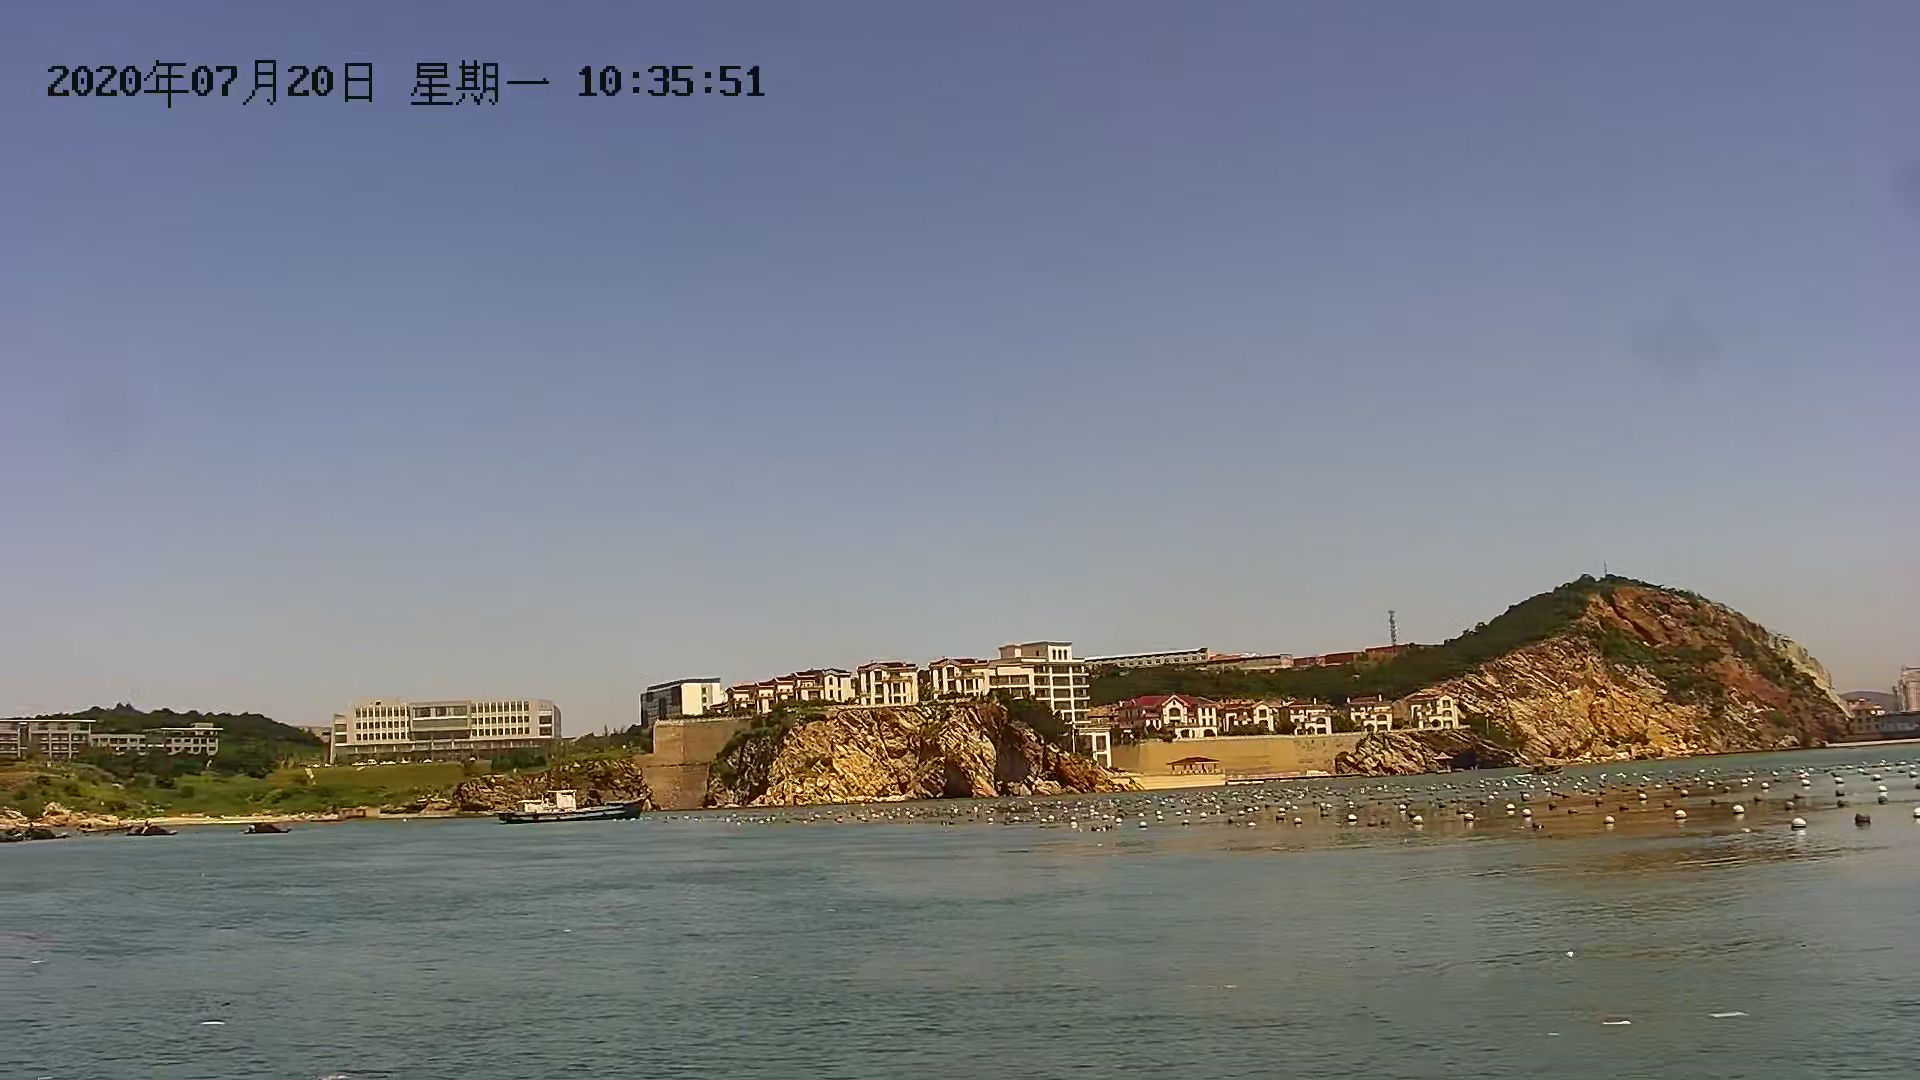ball: (1854, 806, 1878, 832), (1788, 818, 1811, 833)
boat: (502, 799, 647, 827)
rubbish: (1, 824, 67, 849), (121, 822, 175, 841), (243, 818, 287, 839)
